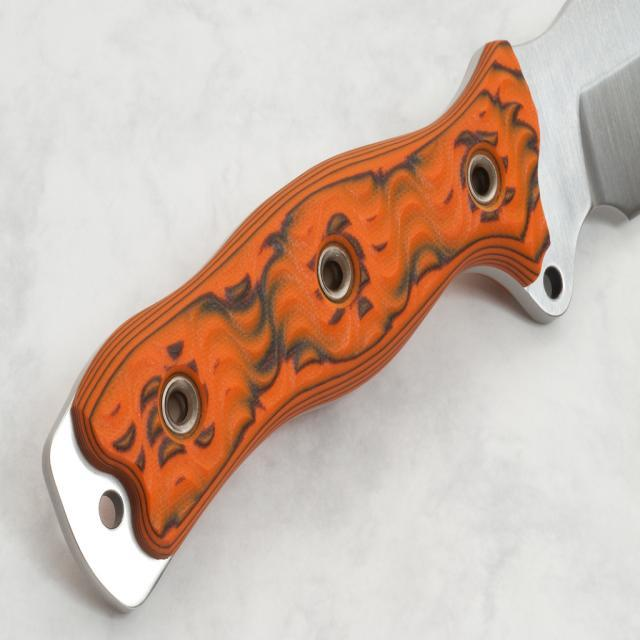Knife: (45, 0, 640, 607)
